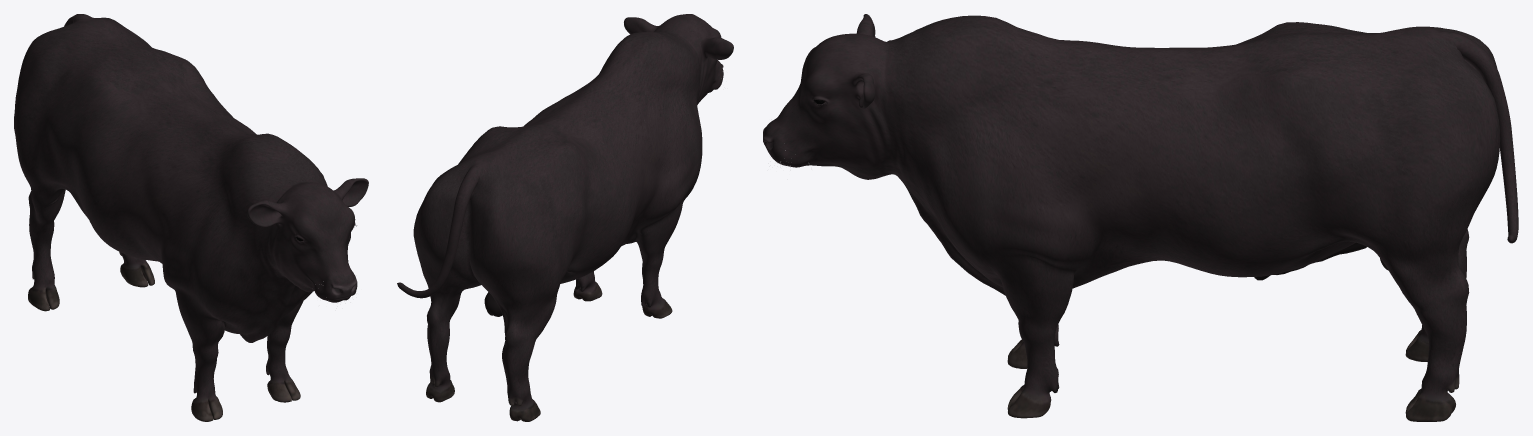
File: CEVA - angus.gltf
The picture shows the model from 3 angles, left to right: view 1: azimuth 30°, elevation 25°; view 2: azimuth 150°, elevation 25°; view 3: azimuth 270°, elevation 25°; orthographic projection. The views are drawn at different scales.
Parts seen in each view (by area): view 1: Angus_bull_rig:Angus_bull; view 2: Angus_bull_rig:Angus_bull; view 3: Angus_bull_rig:Angus_bull.
Boxes of the visible parts, bbox=[...] form: Angus_bull_rig:Angus_bull: bbox=[14, 14, 368, 421]; Angus_bull_rig:Angus_bull: bbox=[397, 14, 733, 421]; Angus_bull_rig:Angus_bull: bbox=[763, 14, 1518, 421].
Size of the model in its own units: 0.84 by 1.41 by 2.65.
1 material, 1 textured.
